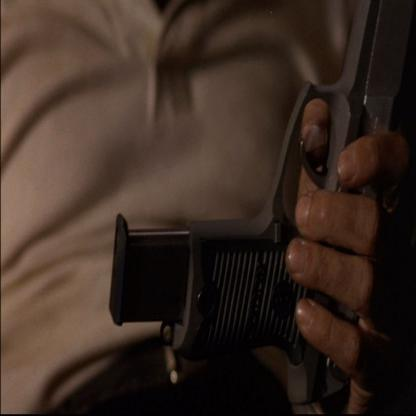gun: (103, 0, 416, 391)
